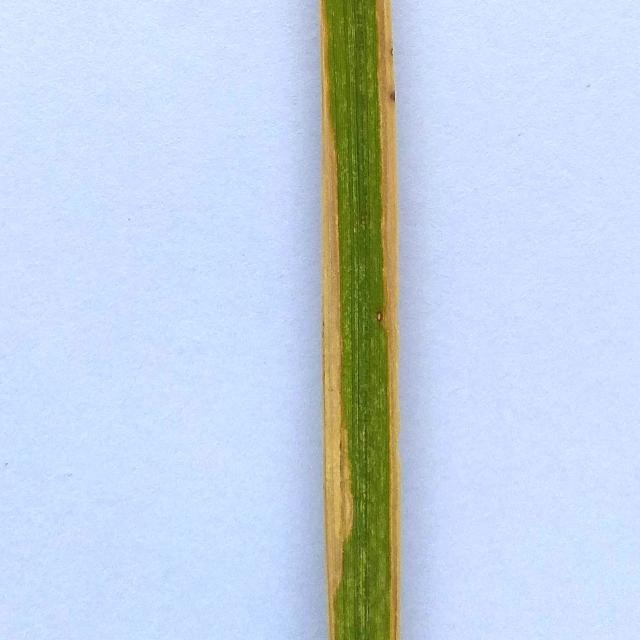Blast: (374, 309, 386, 329), (390, 88, 398, 106)
